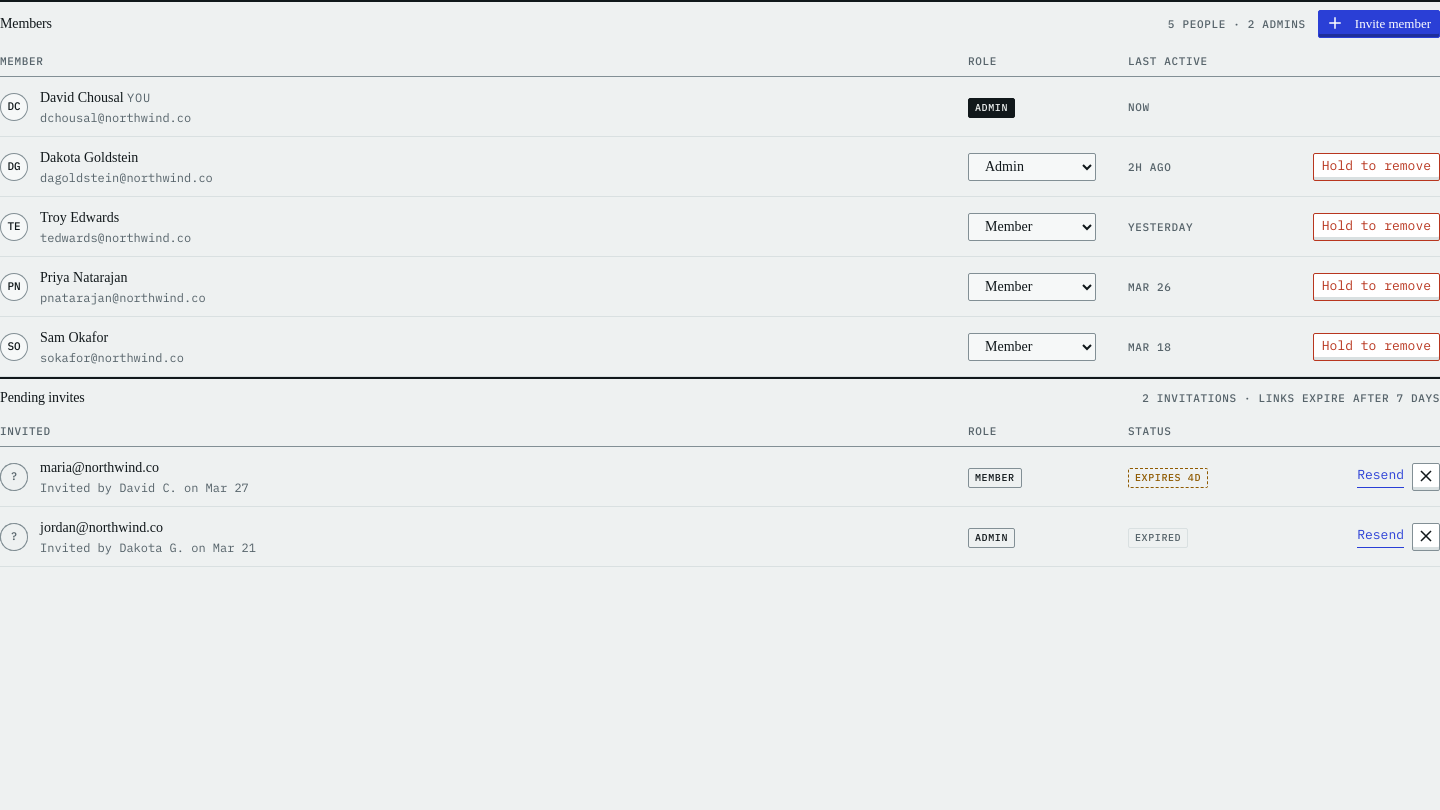
Test: TeamBoard › opens the invite dialog from the Members bay
Click the button "Invite member".
click(1379, 24)  # box [1318,10,1439,38]
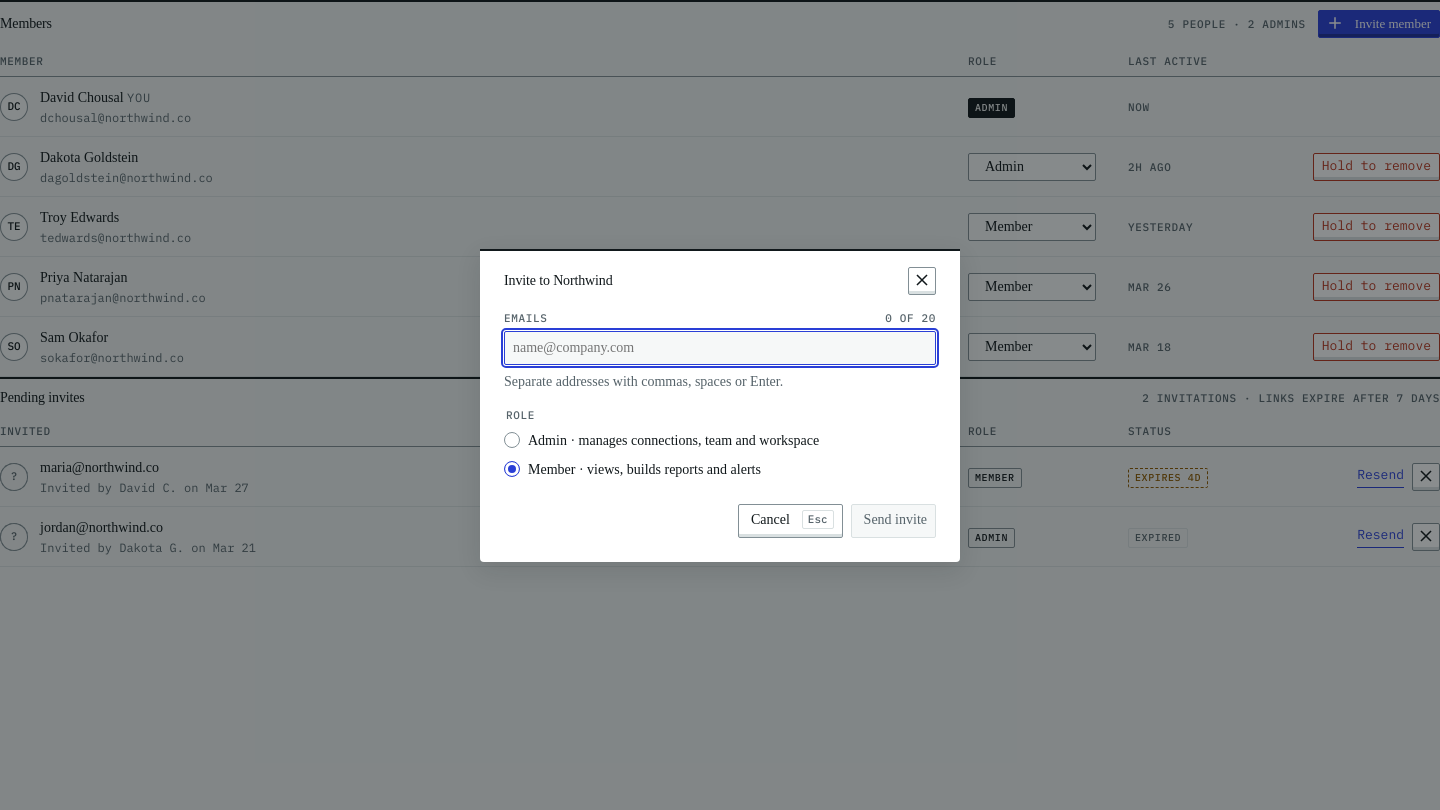
expect the dialog "Invite to Northwind" is shown: met, box [480,248,960,562]
